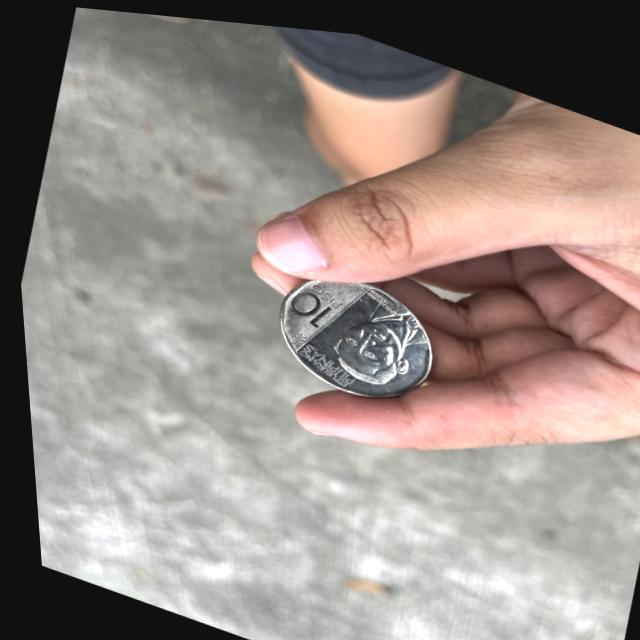10_New_Front: (274, 258, 358, 339)
